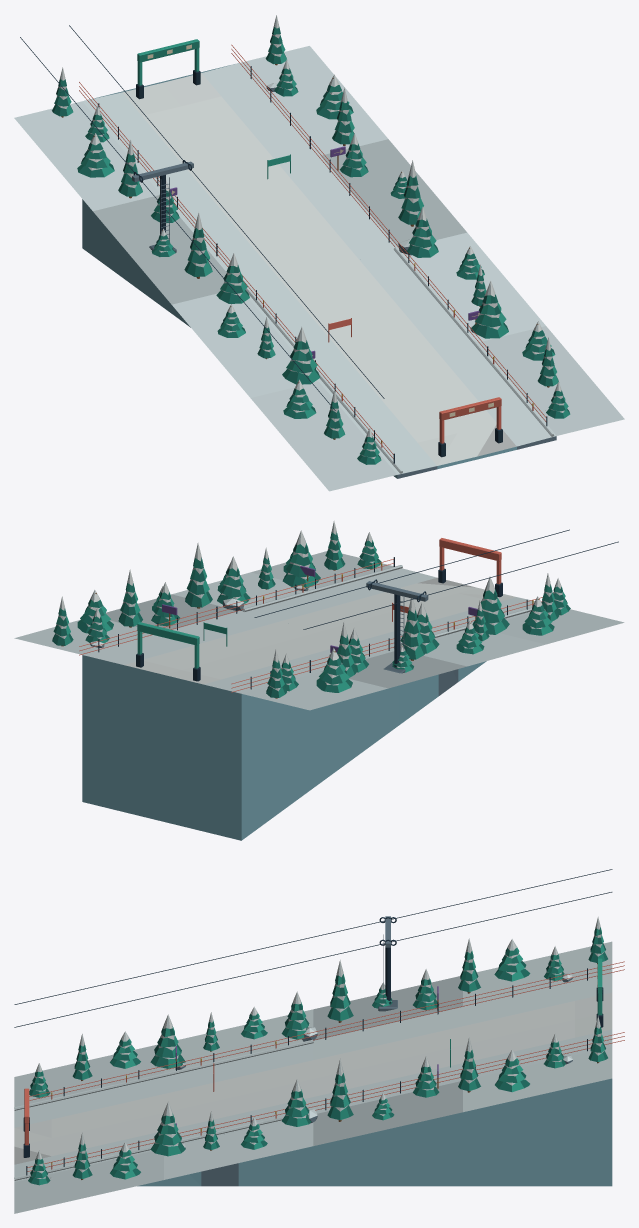
File: ski-slope.glb
The picture shows the model from 3 angles, top to bottom: view 1: azimuth 30°, elevation 25°; view 2: azimuth 150°, elevation 25°; view 3: azimuth 270°, elevation 25°; orthographic projection. The views are drawn at different scales.
Visible parts, largest first — view 1: snow_banks, slope_surface_upper, slope_surface, winter_firs, upper_slope_body, safety_fences, piste_edges, finish_gate, start_gate, lift_cables, lift_tower, slope_body; view 2: upper_slope_body, winter_firs, snow_banks, slope_surface_upper, slope_surface, safety_fences, slope_body, lift_tower, start_gate, finish_gate, piste_edges, lift_cables; view 3: snow_banks, upper_slope_body, slope_surface_upper, slope_surface, winter_firs, slope_body, safety_fences, piste_edges, lift_cables, lift_tower, winter_rocks.
Part boxes in pixels (left/top/right/bottom): snow_banks: left=14, top=46, right=624, bottom=491; slope_surface_upper: left=82, top=62, right=398, bottom=285; slope_surface: left=247, top=249, right=556, bottom=474; winter_firs: left=52, top=15, right=570, bottom=464; upper_slope_body: left=82, top=64, right=234, bottom=327; safety_fences: left=79, top=44, right=547, bottom=463; piste_edges: left=245, top=247, right=554, bottom=473; finish_gate: left=438, top=397, right=502, bottom=457; start_gate: left=136, top=39, right=200, bottom=99; lift_cables: left=20, top=25, right=384, bottom=410; lift_tower: left=132, top=160, right=193, bottom=252; slope_body: left=394, top=436, right=556, bottom=478; upper_slope_body: left=82, top=655, right=398, bottom=840; winter_firs: left=52, top=520, right=570, bottom=698; snow_banks: left=14, top=551, right=624, bottom=710; slope_surface_upper: left=83, top=611, right=394, bottom=693; slope_surface: left=240, top=568, right=534, bottom=648; safety_fences: left=79, top=557, right=542, bottom=692; slope_body: left=399, top=661, right=486, bottom=725; lift_tower: left=366, top=579, right=428, bottom=673; start_gate: left=136, top=622, right=200, bottom=681; finish_gate: left=438, top=538, right=502, bottom=597; piste_edges: left=242, top=565, right=531, bottom=648; lift_cables: left=254, top=529, right=618, bottom=629; snow_banks: left=14, top=941, right=612, bottom=1213; upper_slope_body: left=313, top=1078, right=612, bottom=1186; slope_surface_upper: left=313, top=973, right=612, bottom=1113; slope_surface: left=14, top=1043, right=313, bottom=1182; winter_firs: left=28, top=916, right=607, bottom=1185; slope_body: left=137, top=1146, right=313, bottom=1186; safety_fences: left=26, top=961, right=624, bottom=1178; piste_edges: left=14, top=1039, right=313, bottom=1180; lift_cables: left=14, top=869, right=612, bottom=1027; lift_tower: left=378, top=916, right=397, bottom=1011; winter_rocks: left=50, top=973, right=572, bottom=1178.
Size of the model in its own units: 26 by 19.02 by 49.04.
